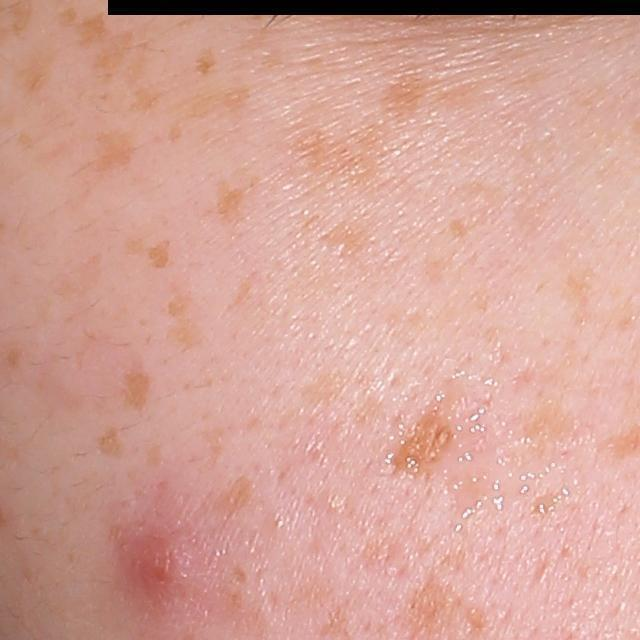melasma: (512, 402, 584, 476), (385, 413, 457, 481), (295, 134, 373, 185), (402, 573, 457, 632), (557, 264, 597, 331), (383, 73, 434, 123), (213, 474, 258, 521), (66, 11, 116, 51), (91, 130, 137, 172), (170, 296, 203, 347), (95, 426, 137, 466), (212, 181, 248, 225), (142, 240, 180, 280), (323, 226, 371, 257), (121, 368, 150, 410), (185, 47, 216, 81), (3, 342, 25, 373), (448, 217, 473, 243)
